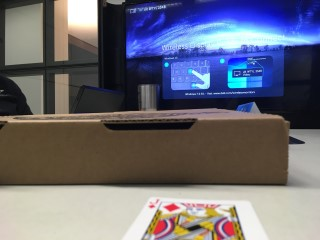JackOfDiamonds: (119, 197, 268, 240)
